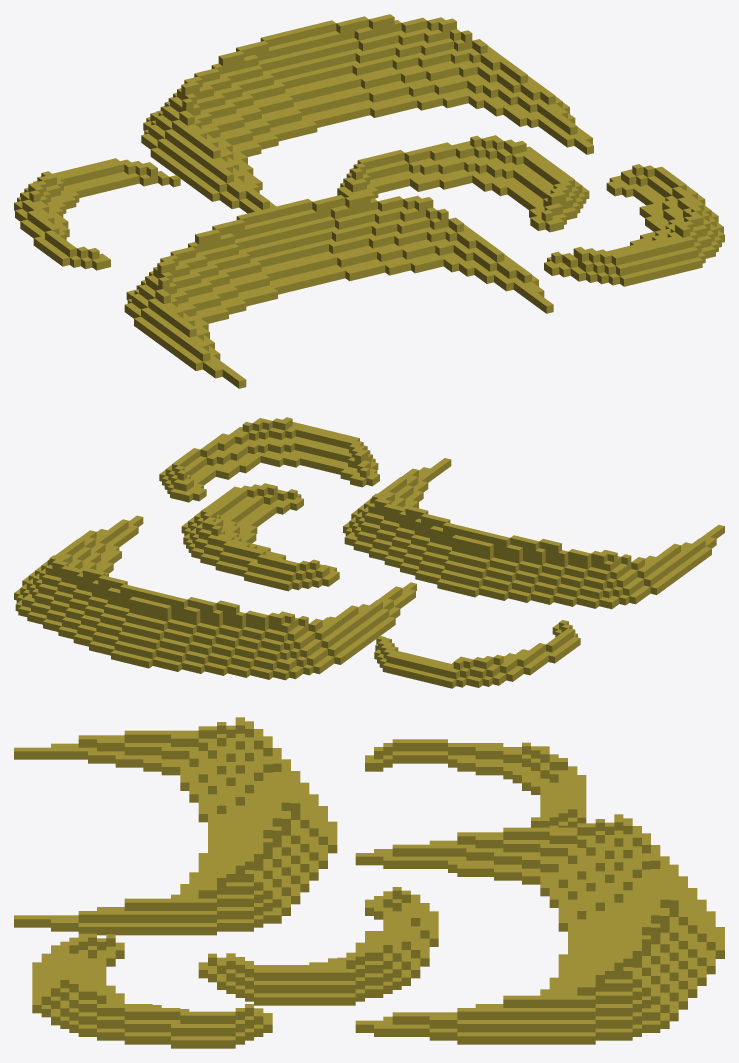
Rendered from dunes_1_overtile.glb.
3 views of the same model, one above another, from view 1: azimuth 30°, elevation 25°; view 2: azimuth 150°, elevation 25°; view 3: azimuth 270°, elevation 25° (orthographic). The views are drawn at different scales.
Visible parts, largest first — view 1: dunes_1_overtile; view 2: dunes_1_overtile; view 3: dunes_1_overtile.
Part boxes in pixels (x1,y1,x2,y2): dunes_1_overtile: [14, 14, 724, 388]; dunes_1_overtile: [14, 417, 724, 688]; dunes_1_overtile: [14, 717, 724, 1048].
Size of the model in its own units: 7.7 by 0.8 by 7.7.
Materials: 1 (1 with a texture image).
